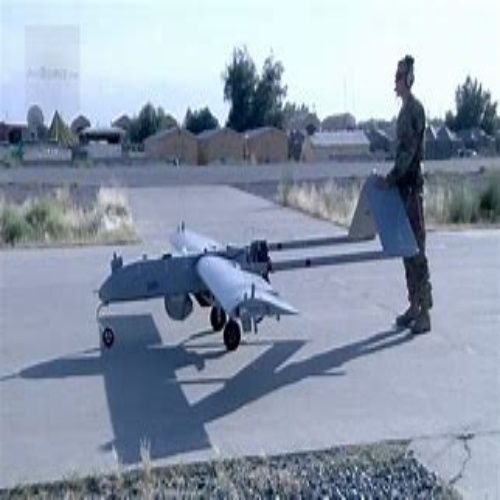uav: (95, 173, 394, 355)
